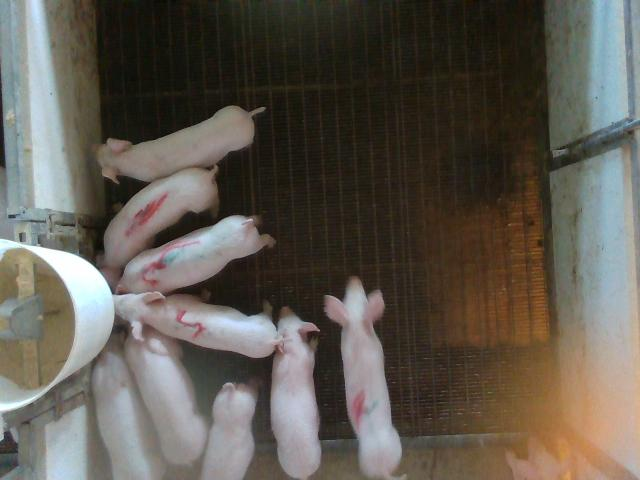pig-1: (104, 166, 217, 268)
pig-3: (101, 215, 275, 293)
pig-4: (324, 276, 401, 478)
pig-5: (114, 291, 281, 358)
